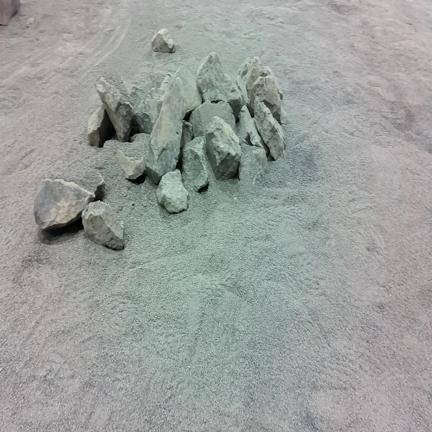Rock: (146, 78, 186, 184), (197, 53, 247, 118), (34, 179, 95, 229), (96, 77, 133, 141), (206, 117, 241, 179), (82, 202, 123, 249), (161, 67, 202, 112), (239, 57, 282, 98), (255, 102, 284, 159), (190, 101, 235, 136), (250, 75, 281, 122), (197, 53, 227, 101), (183, 137, 209, 191), (133, 89, 163, 133), (157, 170, 188, 212), (174, 67, 202, 112), (88, 104, 114, 147), (239, 145, 267, 182), (225, 74, 247, 119), (238, 57, 263, 96), (118, 150, 145, 179), (79, 172, 105, 200), (263, 66, 282, 99), (124, 134, 150, 156), (247, 119, 266, 149), (152, 29, 175, 53), (236, 106, 251, 140), (0, 0, 20, 25), (237, 76, 249, 105), (181, 120, 193, 148), (160, 73, 173, 93), (26, 17, 35, 28), (281, 108, 287, 124)
